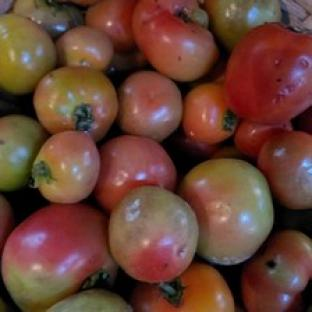Tomato: (2, 204, 118, 311), (177, 158, 274, 264), (109, 186, 199, 282), (225, 23, 311, 123), (94, 134, 176, 213), (34, 66, 118, 142), (241, 230, 311, 311), (130, 261, 235, 311), (30, 131, 100, 203), (116, 70, 182, 142), (0, 13, 57, 94), (258, 130, 311, 208), (0, 115, 48, 192), (182, 83, 238, 144), (56, 26, 114, 71), (233, 120, 293, 160), (46, 289, 132, 311), (0, 194, 16, 257), (293, 106, 311, 135)
